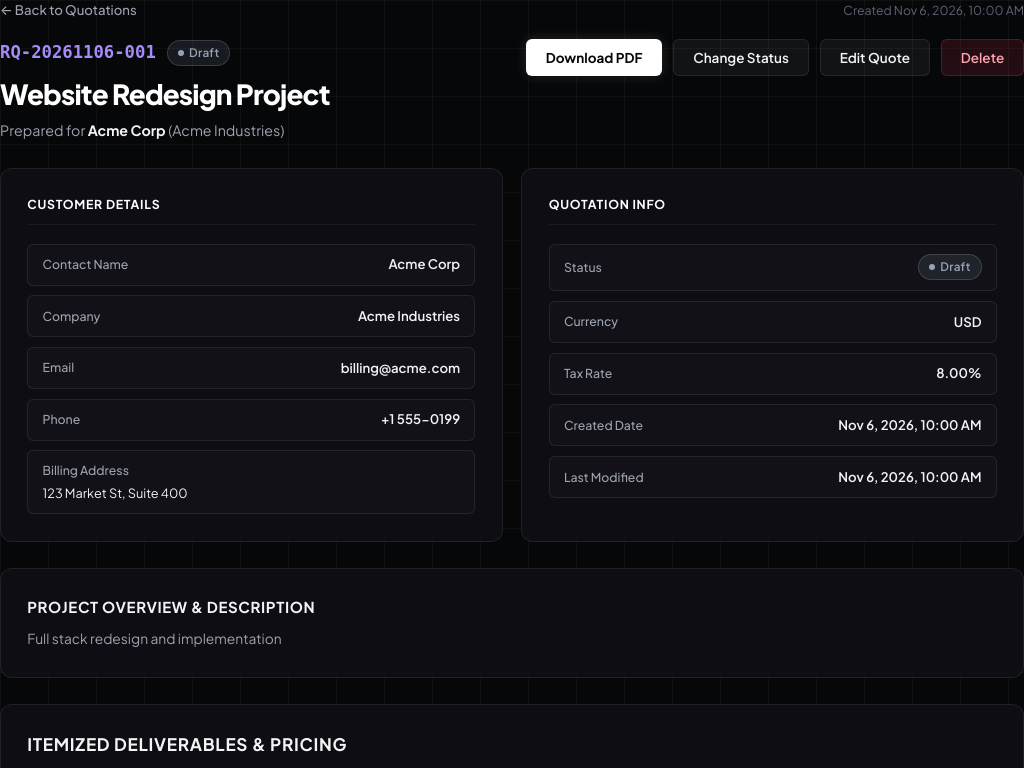
Scenario: QuotationDetailPage › displays error alert when PDF download fails
Expected: the text "RQ-20261106-001" is shown, [0,39,156,66]
Click the button "Download PDF" at point(594, 58), box [526,39,662,76]
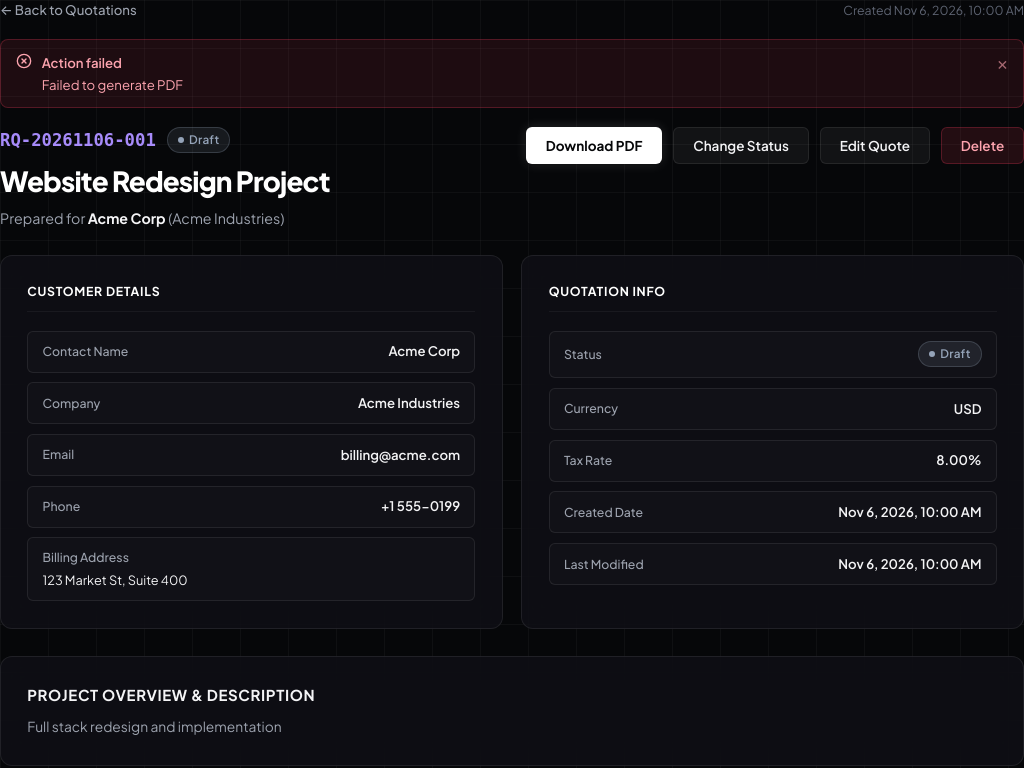
Result: the text "Failed to generate PDF" is shown at [42,75,183,94]
